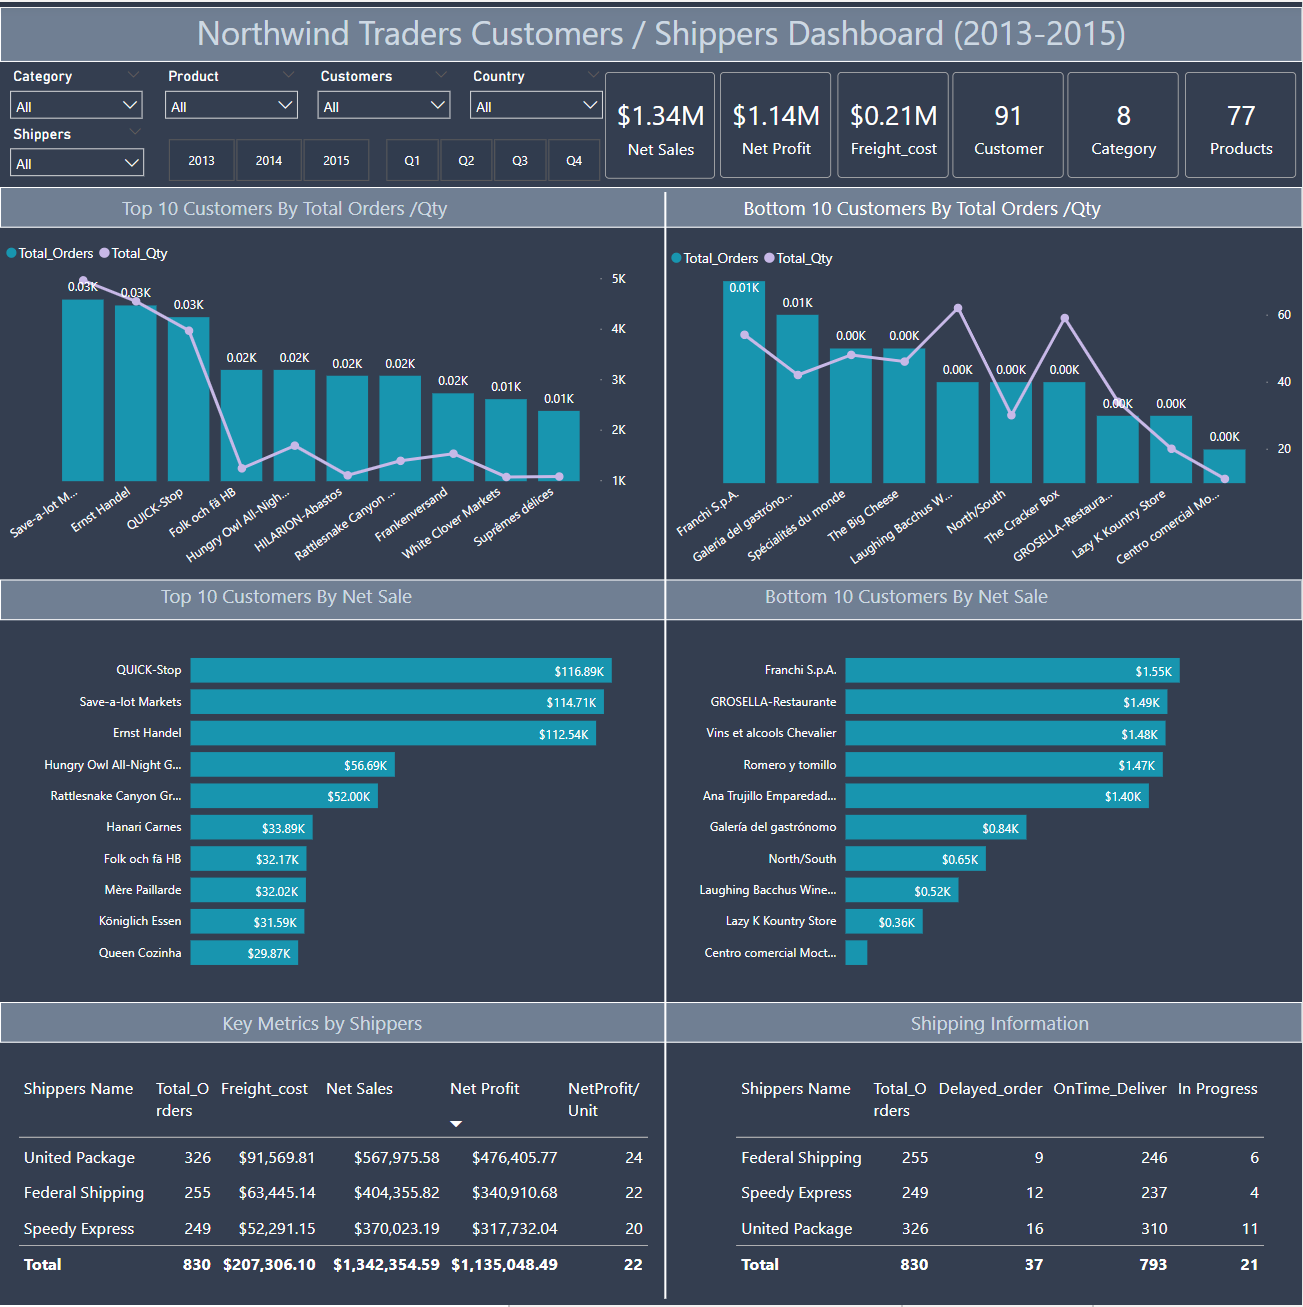

Layout of this report page (visuals, bound fields, positions):
{"tool":"powerbi","page":{"name":"Customers / Shippers Performance","canvas":[1280,1280],"ordinal":1},"visuals":[{"type":"slicer","fields":{"Values":["dim_date.Year"]},"box":[139.7,128.3,246.7,55],"z":0},{"type":"slicer","fields":{"Values":["dim_categories.CategoryName"]},"box":[0.8,60,150,70],"z":1000},{"type":"slicer","fields":{"Values":["dim_customers.CompanyName"]},"box":[301.5,60,150.3,70.2],"z":2000},{"type":"slicer","fields":{"Values":["dim_customers.Country"]},"box":[451.8,60,150.3,70.2],"z":3000},{"type":"slicer","fields":{"Values":["dim_shippers.CompanyName"]},"box":[0,116.7,151.7,70],"z":4000},{"type":"slicer","fields":{"Values":["dim_products.ProductName"]},"box":[151.1,60,150.3,70.2],"z":5000},{"type":"slicer","fields":{"Values":["dim_date.Q"]},"box":[354.7,128.3,260,55],"z":6000},{"type":"textbox","box":[23.2,566,524,36],"z":7000},{"type":"textbox","box":[55,985,525,45],"z":8000},{"type":"textbox","box":[20,184,520,42],"z":9000},{"type":"textbox","box":[631.2,566,524,40],"z":10000},{"type":"textbox","box":[695,985,585,40],"z":11000},{"type":"textbox","box":[0,432.1,1239.2,57.1],"z":12000},{"type":"card","fields":{"Values":["My Measures.Net Sales"]},"box":[594.8,70,107.9,105],"z":13000},{"type":"card","fields":{"Values":["My Measures.Net Profit"]},"box":[708.1,70,109,104],"z":14000},{"type":"card","fields":{"Values":["My Measures.Freight_cost"]},"box":[822.1,70,109,104],"z":15000},{"type":"card","fields":{"Values":["My Measures.Customer"]},"box":[936.1,70,109,104],"z":16000},{"type":"shape","box":[0,182,1280,40],"z":17000},{"type":"shape","box":[0,5.4,1280,54.4],"z":18000},{"type":"shape","box":[0,568,1280,40],"z":19000},{"type":"shape","box":[0,982.5,1280,40],"z":20000},{"type":"card","fields":{"Values":["My Measures.Total_Category"]},"box":[1050.1,70,109,104],"z":21000},{"type":"card","fields":{"Values":["My Measures.Total_Products"]},"box":[1164.1,70,109,104],"z":22000},{"type":"barChart","fields":{"Category":["dim_customers.CompanyName"],"Y":["My Measures.Net Sales"]},"box":[27.5,620,590,345],"z":23000},{"type":"barChart","fields":{"Category":["dim_customers.CompanyName"],"Y":["My Measures.Net Sales"]},"box":[670.3,618.5,590,345],"z":24000},{"type":"lineStackedColumnComboChart","fields":{"Category":["dim_customers.CompanyName"],"Y":["My Measures.Total_Orders"],"Y2":["My Measures.Total_Qty"]},"box":[652.8,231,620,336],"z":25000},{"type":"lineStackedColumnComboChart","fields":{"Category":["dim_customers.CompanyName"],"Y":["My Measures.Total_Orders"],"Y2":["My Measures.Total_Qty"]},"box":[0,226,620,340],"z":26000},{"type":"tableEx","fields":{"Values":["dim_shippers.CompanyName","My Measures.Total_Orders","My Measures.Delayed_order","My Measures.OnTime_Deliver","My Measures.In Progress"]},"box":[717.5,1045,560,235],"z":27000},{"type":"tableEx","fields":{"Values":["dim_shippers.CompanyName","My Measures.Total_Orders","My Measures.Freight_cost","My Measures.Net Sales","My Measures.Net Profit","My Measures.NetProfit/Unit"]},"box":[11.7,1043.8,644.4,236.2],"z":28000},{"type":"textbox","box":[646,184,520,42],"z":29000},{"type":"shape","box":[504.4,186.6,300.3,1087.6],"z":30000},{"type":"card","fields":{"Values":["My Measures.Customers Tiltle"]},"box":[2.7,0,1269.1,59.8],"z":30001}]}

Visuals, with their boxes in screenshot pixels (x1, y1, x2, y2), scaled from the page's 1280x1280 canvas onto the 1303x1307 screenshot:
slicer - dim_date.Year: 142, 131, 393, 187
slicer - dim_categories.CategoryName: 1, 61, 154, 133
slicer - dim_customers.CompanyName: 307, 61, 460, 133
slicer - dim_customers.Country: 460, 61, 613, 133
slicer - dim_shippers.CompanyName: 0, 119, 154, 191
slicer - dim_products.ProductName: 154, 61, 307, 133
slicer - dim_date.Q: 361, 131, 626, 187
textbox: 24, 578, 557, 615
textbox: 56, 1006, 590, 1052
textbox: 20, 188, 550, 231
textbox: 643, 578, 1176, 619
textbox: 707, 1006, 1302, 1047
textbox: 0, 441, 1261, 500
card - My Measures.Net Sales: 605, 71, 715, 179
card - My Measures.Net Profit: 721, 71, 832, 178
card - My Measures.Freight_cost: 837, 71, 948, 178
card - My Measures.Customer: 953, 71, 1064, 178
shape: 0, 186, 1302, 227
shape: 0, 6, 1302, 61
shape: 0, 580, 1302, 621
shape: 0, 1003, 1302, 1044
card - My Measures.Total_Category: 1069, 71, 1180, 178
card - My Measures.Total_Products: 1185, 71, 1296, 178
barChart - dim_customers.CompanyName x My Measures.Net Sales: 28, 633, 629, 985
barChart - dim_customers.CompanyName x My Measures.Net Sales: 682, 632, 1283, 984
lineStackedColumnComboChart - dim_customers.CompanyName x My Measures.Total_Orders: 665, 236, 1296, 579
lineStackedColumnComboChart - dim_customers.CompanyName x My Measures.Total_Orders: 0, 231, 631, 578
tableEx - dim_shippers.CompanyName x My Measures.Total_Orders: 730, 1067, 1300, 1306
tableEx - dim_shippers.CompanyName x My Measures.Total_Orders: 12, 1066, 668, 1306
textbox: 658, 188, 1187, 231
shape: 513, 191, 819, 1301
card - My Measures.Customers Tiltle: 3, 0, 1295, 61
